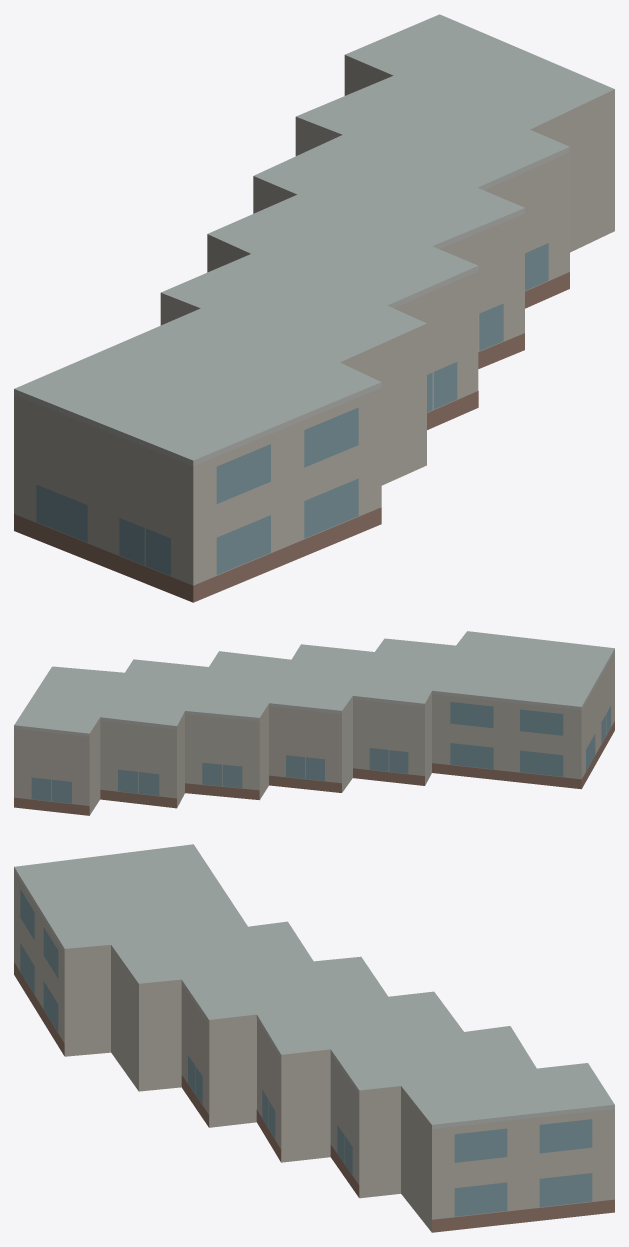
File: survey-upis-32525104.glb
3 views of the same model, one above another, from view 1: azimuth 30°, elevation 25°; view 2: azimuth 150°, elevation 25°; view 3: azimuth 270°, elevation 25° (orthographic). The views are drawn at different scales.
Visible parts, largest first — view 1: survey-upis-32525104.tmp; view 2: survey-upis-32525104.tmp; view 3: survey-upis-32525104.tmp.
Part boxes in pixels (x1,y1,x2,y2): survey-upis-32525104.tmp: (14, 14, 614, 602); survey-upis-32525104.tmp: (14, 631, 614, 815); survey-upis-32525104.tmp: (14, 844, 614, 1232).
Size of the model in its own units: 34.06 by 6.1 by 30.81.
